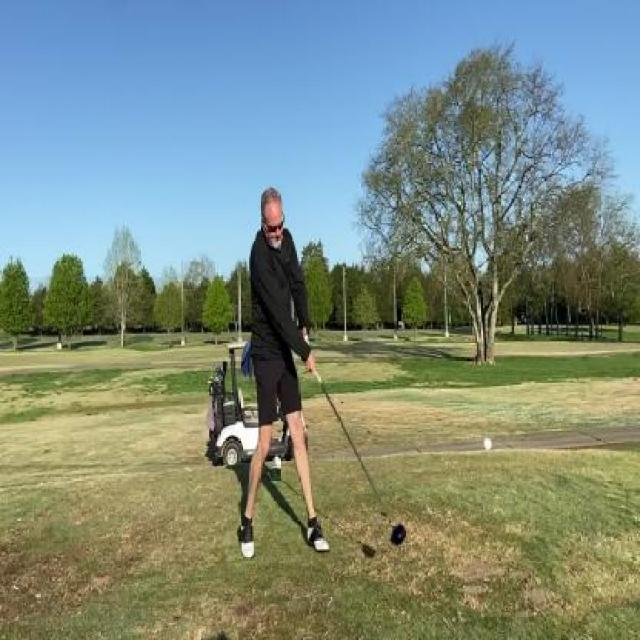club head: (388, 518, 408, 548)
